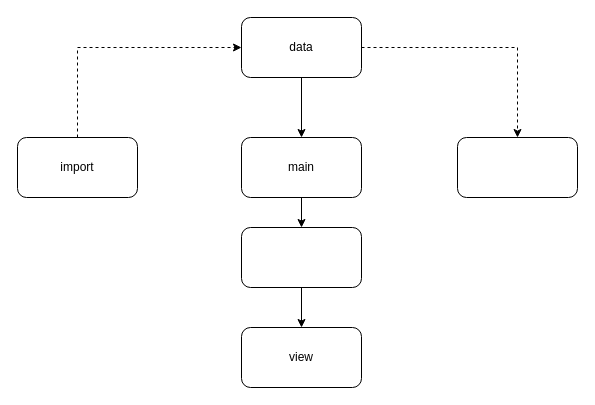
The diagram is 595 pixels wide and 405 high, and some of its shapes have lost their labels. Each missing label, with the box of its shape:
export: (456, 136, 578, 198)
interface: (240, 226, 362, 288)
